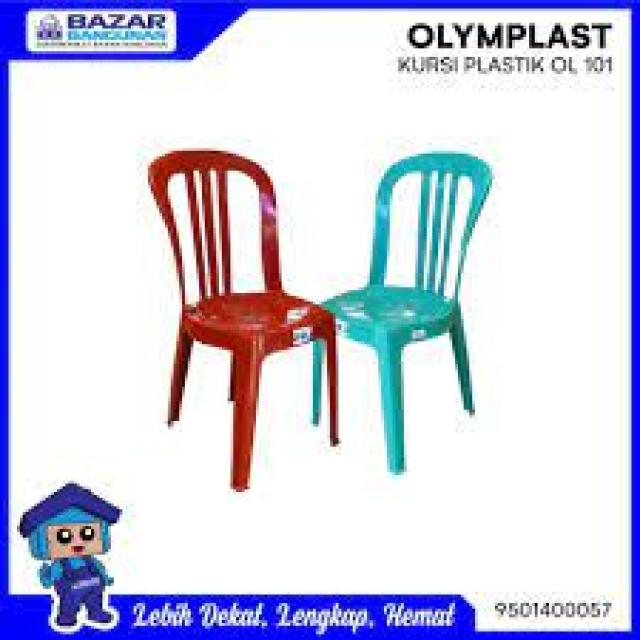chair: (140, 134, 350, 504), (308, 146, 508, 482)
